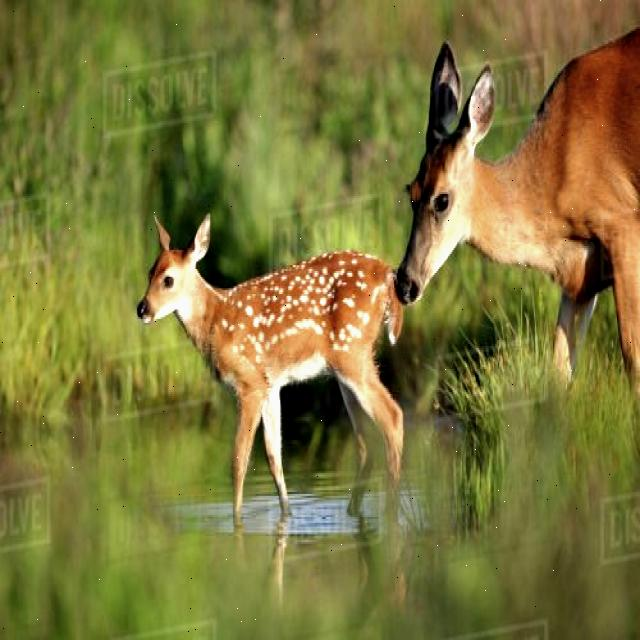deer: (386, 38, 516, 318), (128, 206, 252, 359)
